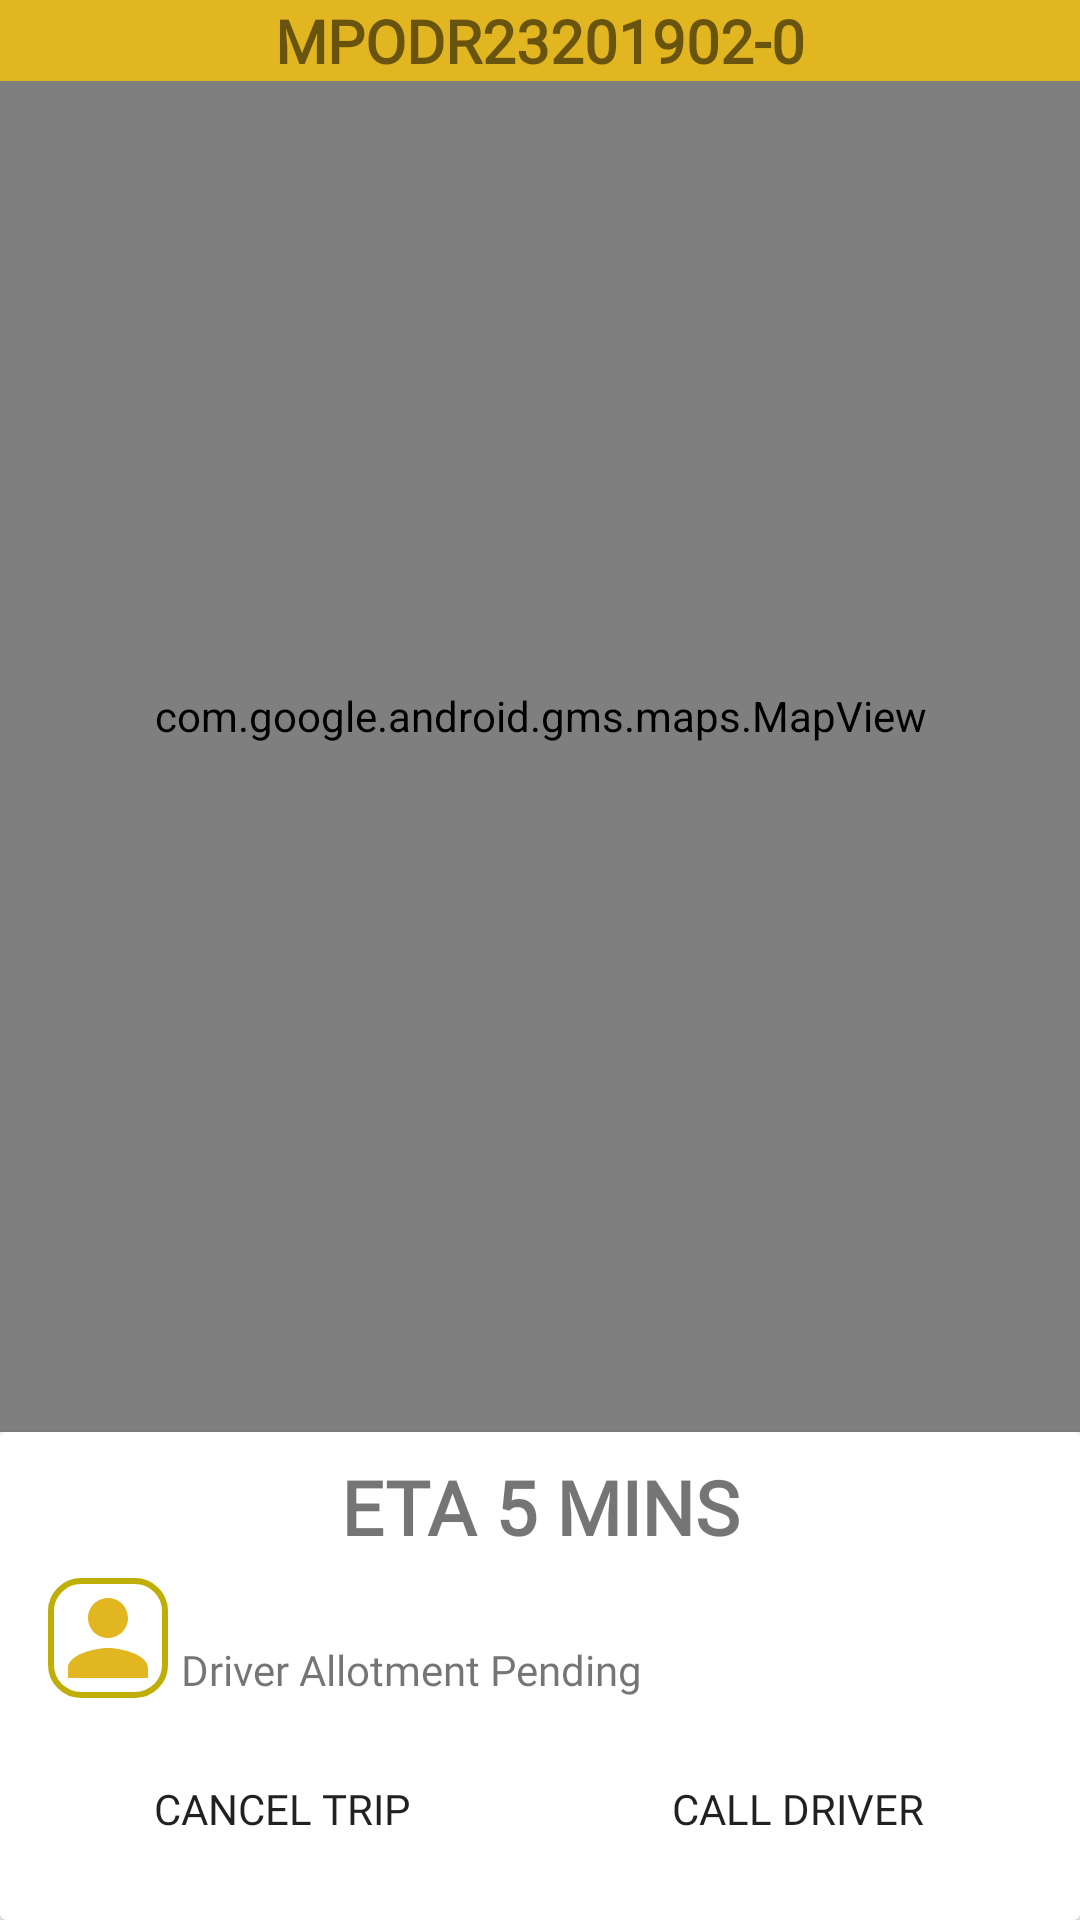

Locate icon controls on the screen. Image size 1080x1920, boxes as (x1, y1, x2, y2).
person: (48, 1578, 168, 1698)
